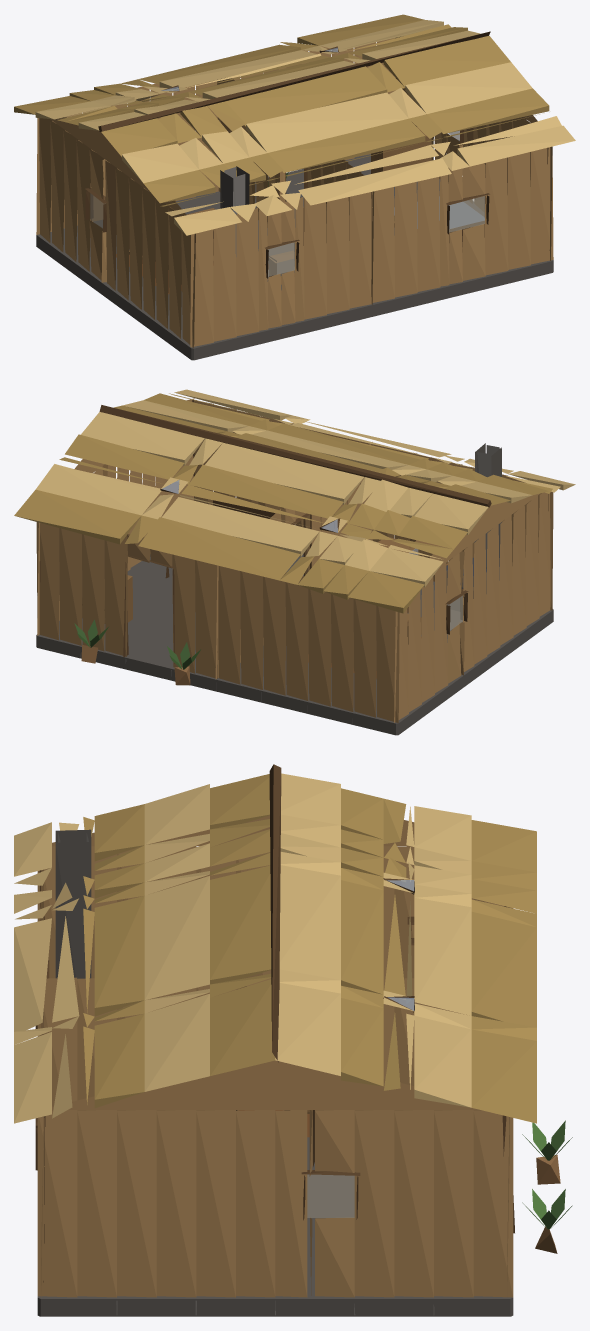
File: SM_CASA_02_CASA_MEDIANA_MEDIA.glb
3 renders of one model, top to bottom at view 1: azimuth 30°, elevation 25°; view 2: azimuth 150°, elevation 25°; view 3: azimuth 270°, elevation 25°, orthographic. The views are drawn at different scales.
Parts seen in each view (by area): view 1: SM_Techo_Izq, SM_Pared_Norte, SM_Pared_Oeste, SM_Techo_Der, SM_Cimiento, SM_Pared_Sur, SM_Pared_Interior, SM_Cumbrera, SM_Pared_Este, SM_Chimenea_Exterior, SM_Cama_Doble, SM_Comoda; view 2: SM_Techo_Der, SM_Pared_Sur, SM_Pared_Oeste, SM_Techo_Izq, SM_Cimiento, SM_Cumbrera, SM_Pared_Norte, SM_Pared_Este, SM_Pared_Interior, SM_Chimenea_Exterior; view 3: SM_Pared_Este, SM_Techo_Der, SM_Techo_Izq, SM_Cimiento, SM_Pared_Interior, SM_Pared_Oeste, SM_Chimenea_Exterior, SM_Pared_Sur, SM_Cumbrera, SM_Pared_Norte.
Part boxes in pixels (bbox=[...]): SM_Techo_Izq: bbox=[101, 36, 575, 235]; SM_Pared_Norte: bbox=[190, 147, 553, 347]; SM_Pared_Oeste: bbox=[39, 117, 195, 347]; SM_Techo_Der: bbox=[14, 14, 488, 130]; SM_Cimiento: bbox=[36, 154, 553, 360]; SM_Pared_Sur: bbox=[36, 38, 396, 234]; SM_Pared_Interior: bbox=[217, 78, 374, 304]; SM_Cumbrera: bbox=[98, 31, 490, 131]; SM_Pared_Este: bbox=[396, 36, 552, 260]; SM_Chimenea_Exterior: bbox=[220, 166, 249, 256]; SM_Cama_Doble: bbox=[394, 196, 484, 251]; SM_Comoda: bbox=[268, 127, 485, 200]; SM_Techo_Der: bbox=[14, 412, 488, 613]; SM_Pared_Sur: bbox=[36, 522, 399, 722]; SM_Pared_Oeste: bbox=[394, 492, 552, 722]; SM_Techo_Izq: bbox=[114, 389, 575, 505]; SM_Cimiento: bbox=[36, 554, 553, 735]; SM_Cumbrera: bbox=[99, 405, 491, 507]; SM_Pared_Norte: bbox=[192, 400, 553, 610]; SM_Pared_Este: bbox=[37, 398, 194, 635]; SM_Pared_Interior: bbox=[215, 442, 372, 679]; SM_Chimenea_Exterior: bbox=[474, 443, 501, 568]; SM_Pared_Este: bbox=[37, 1060, 513, 1297]; SM_Techo_Der: bbox=[275, 773, 536, 1123]; SM_Techo_Izq: bbox=[14, 774, 275, 1123]; SM_Cimiento: bbox=[37, 1137, 513, 1316]; SM_Pared_Interior: bbox=[37, 977, 481, 1166]; SM_Pared_Oeste: bbox=[37, 815, 512, 989]; SM_Chimenea_Exterior: bbox=[55, 829, 91, 978]; SM_Pared_Sur: bbox=[502, 906, 572, 1296]; SM_Cumbrera: bbox=[269, 764, 281, 1062]; SM_Pared_Norte: bbox=[35, 869, 49, 1297].
Size of the model in its own units: 8.6 by 3.82 by 7.09.
